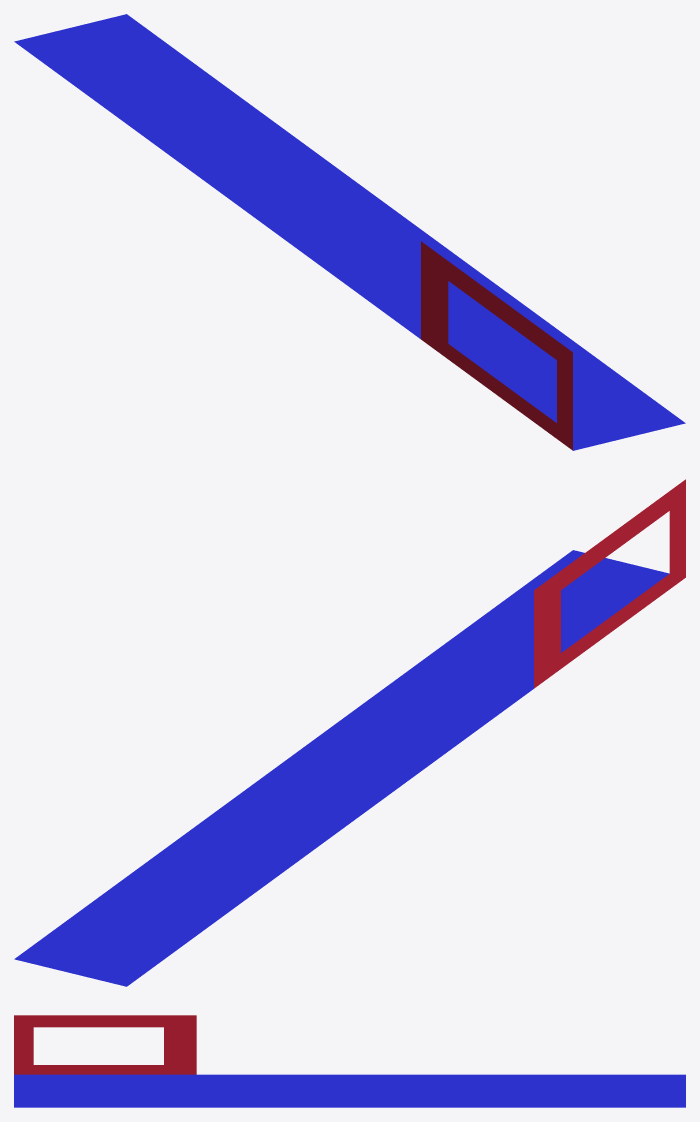
The picture shows the model from 3 angles, top to bottom: view 1: azimuth 30°, elevation 25°; view 2: azimuth 150°, elevation 25°; view 3: azimuth 270°, elevation 25°; orthographic projection. The views are drawn at different scales.
Visible parts, largest first — view 1: Cube; view 2: Cube; view 3: Cube.
Part boxes in pixels (x1,y1,x2,y2): Cube: (14,14,685,450); Cube: (14,479,685,986); Cube: (14,1015,685,1107).
Size of the model in its own units: 6 by 5 by 51.5.
